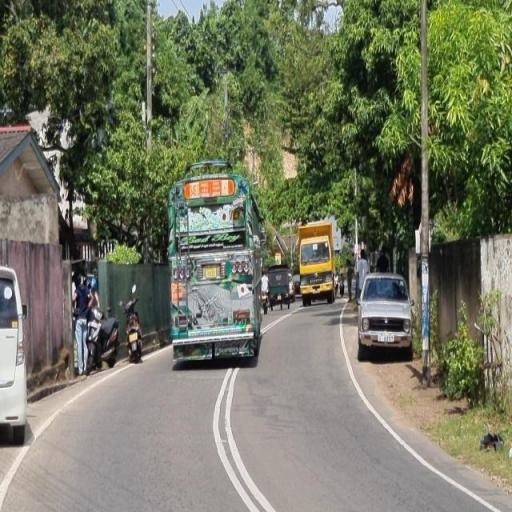double_white_line: (214, 365, 276, 512)
